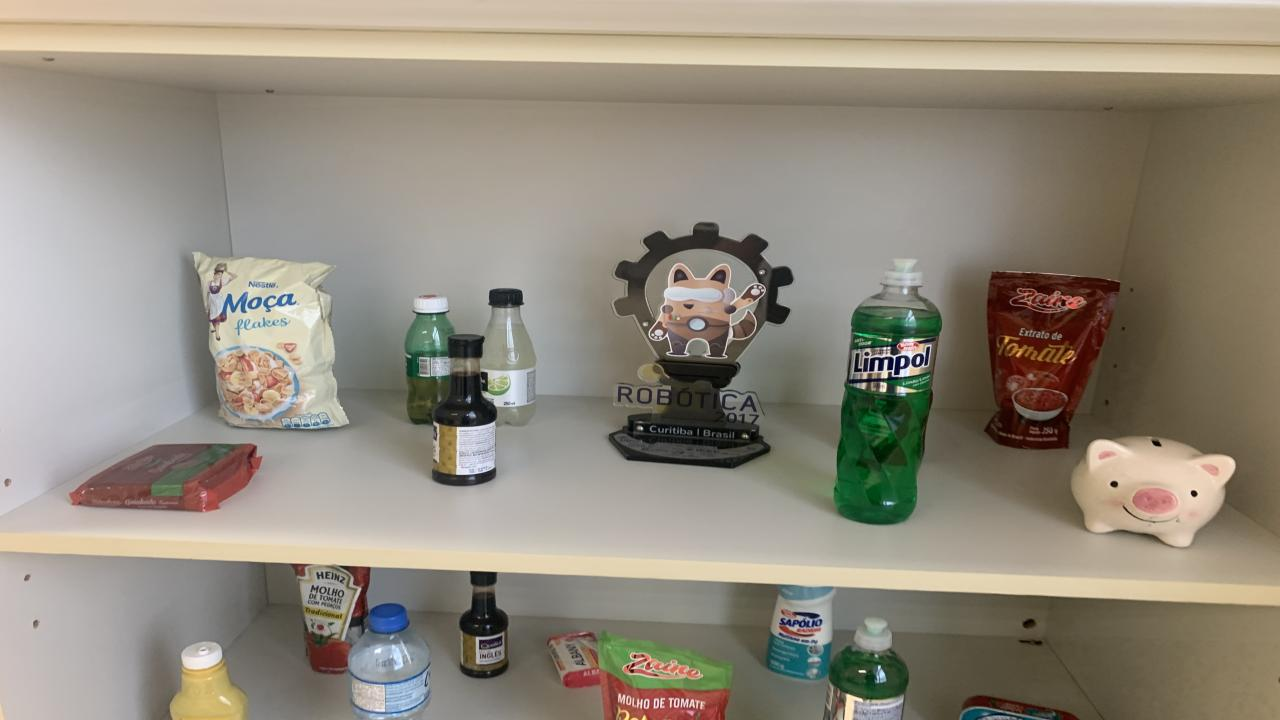Cleaner-Cleanup_Items: (768, 585, 835, 681)
Detergent-Cleanup_Items: (835, 259, 942, 525), (825, 617, 910, 720)
English_Sauce-Pantry_Items: (432, 334, 498, 486), (460, 572, 510, 679)
Flakes-Snacks: (192, 253, 348, 429)
Guarana-Drinks: (405, 294, 455, 424)
Guava-Snacks: (70, 444, 262, 512)
Mustard-Pantry_Items: (170, 641, 248, 720)
Pig_Safe-Miscellaneous: (1070, 437, 1235, 548)
Soap-Cleanup_Items: (548, 632, 600, 688)
Soda-Drinks: (480, 289, 538, 426)
Tomato_Sauce-Pantry_Items: (985, 272, 1120, 448), (598, 632, 732, 720), (292, 564, 370, 673)
Trophy-Miscellaneous: (610, 223, 792, 467)
Tuna_Can-Pantry_Items: (958, 696, 1078, 720)
Water_Bottle-Drinks: (348, 604, 430, 718)
